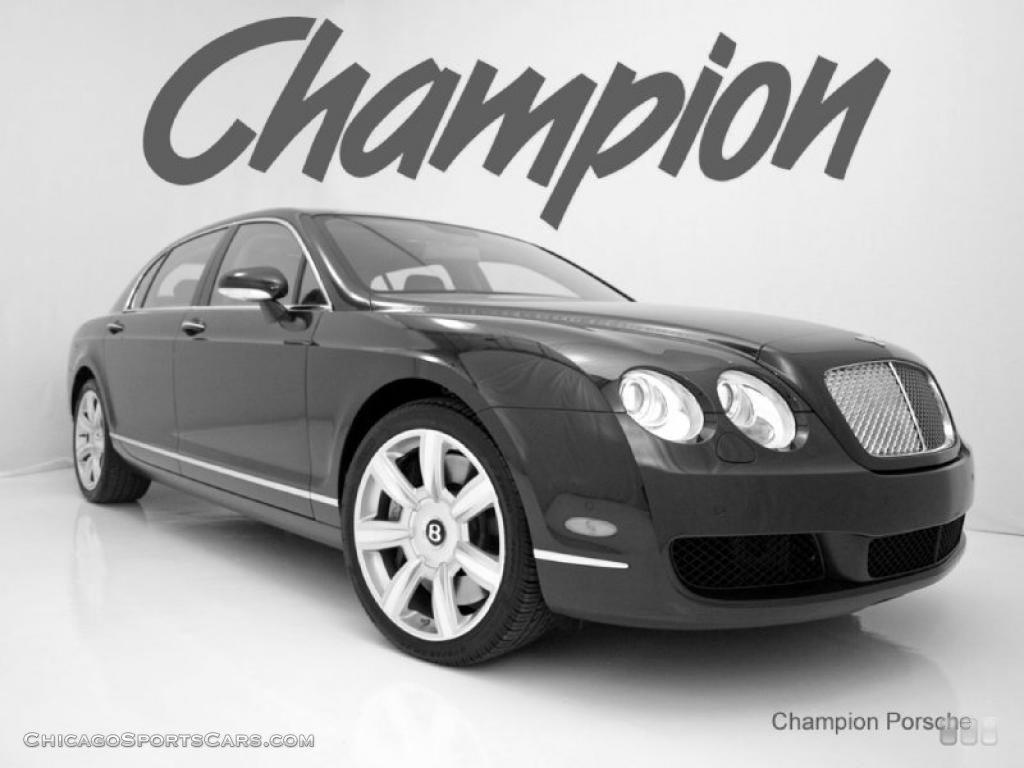car: (57, 199, 982, 675)
